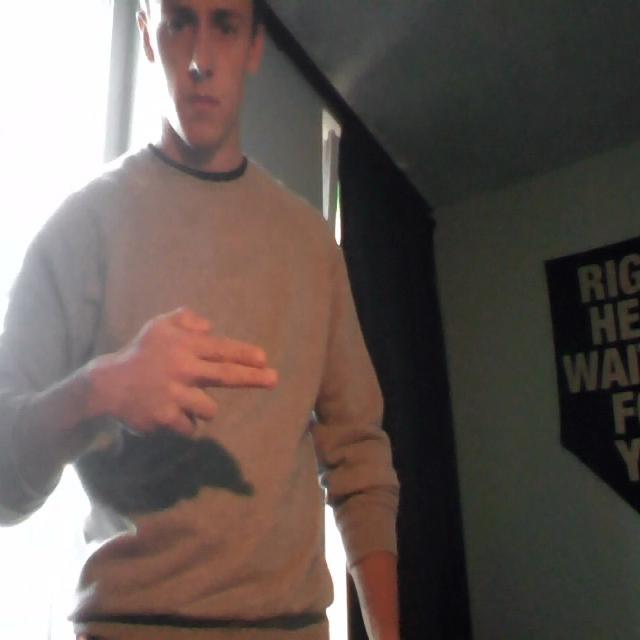right: (94, 292, 286, 445)
